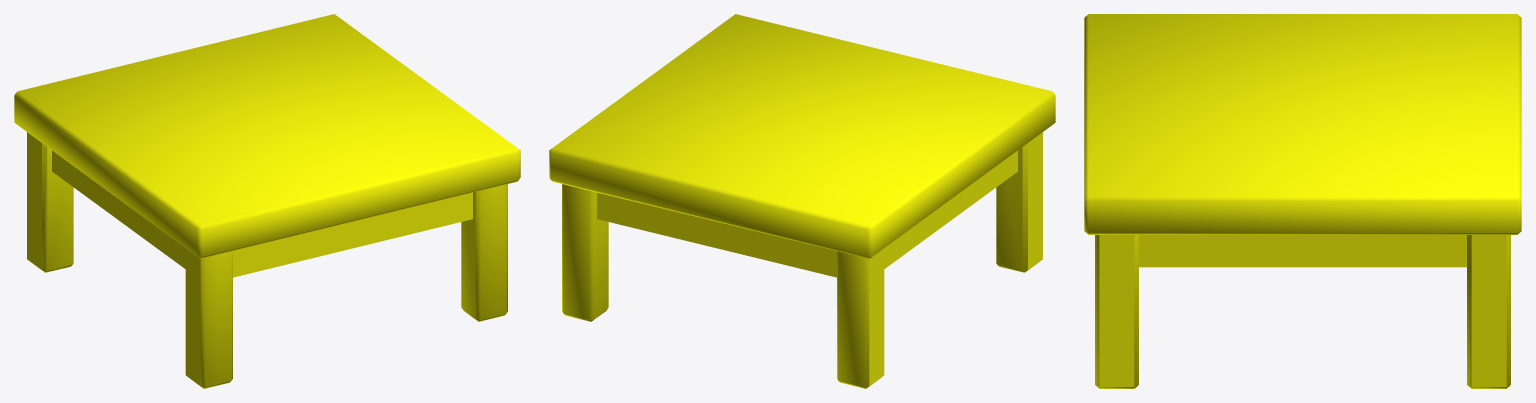
File: kaykit-furniture-table-medium.glb
3 views of the same model, side by side, from view 1: azimuth 30°, elevation 25°; view 2: azimuth 150°, elevation 25°; view 3: azimuth 270°, elevation 25° (orthographic). The views are drawn at different scales.
Visible parts, largest first — view 1: table_medium; view 2: table_medium; view 3: table_medium.
Part boxes in pixels (box(x1,y1,x2,y2)): table_medium: box(14, 14, 520, 388); table_medium: box(549, 14, 1055, 388); table_medium: box(1084, 14, 1521, 388).
Size of the model in its own units: 2 by 1 by 2.
